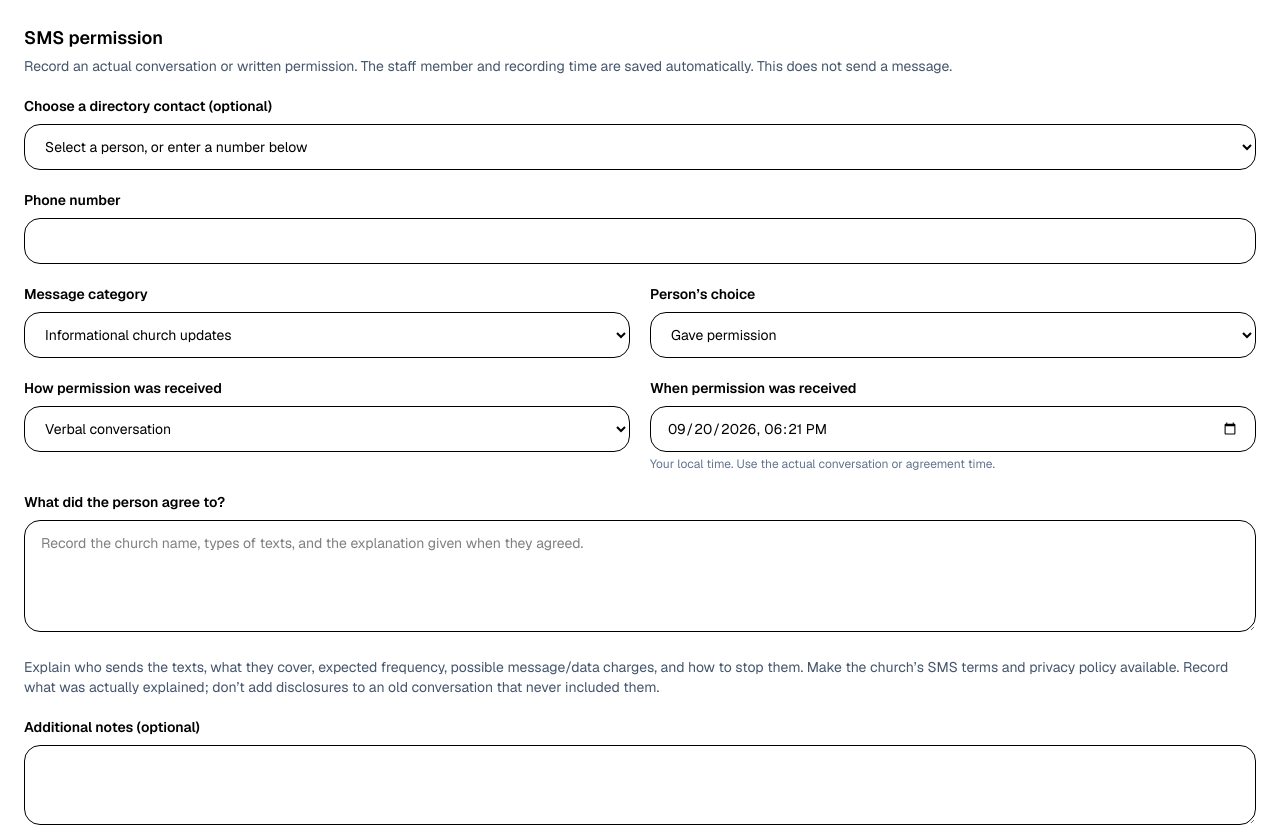
Scenario: clears evidence and confirmation when changing the recipient
The width and height of the screenshot is (1280, 837).
Type "2125551234" into the field labelled "Phone number" at (640, 241), box [24,218,1256,264]
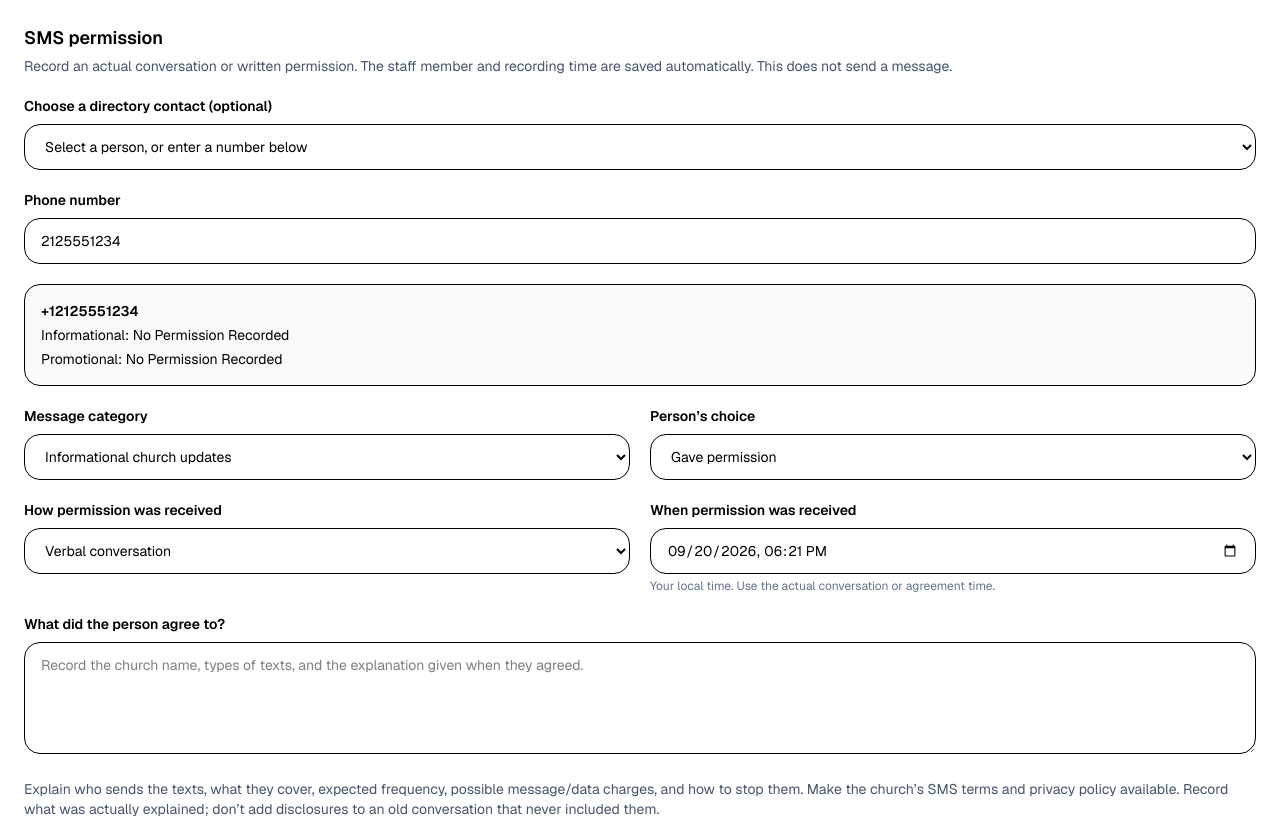
Result: the text "informational: No permission recorded" is shown at [41,326,290,344]
Replace the text in the text box labelled "What did the person agree to?" with "Agreed to church schedule updates after the service." at (640, 698), box [24,642,1256,754]
(page scrolled)
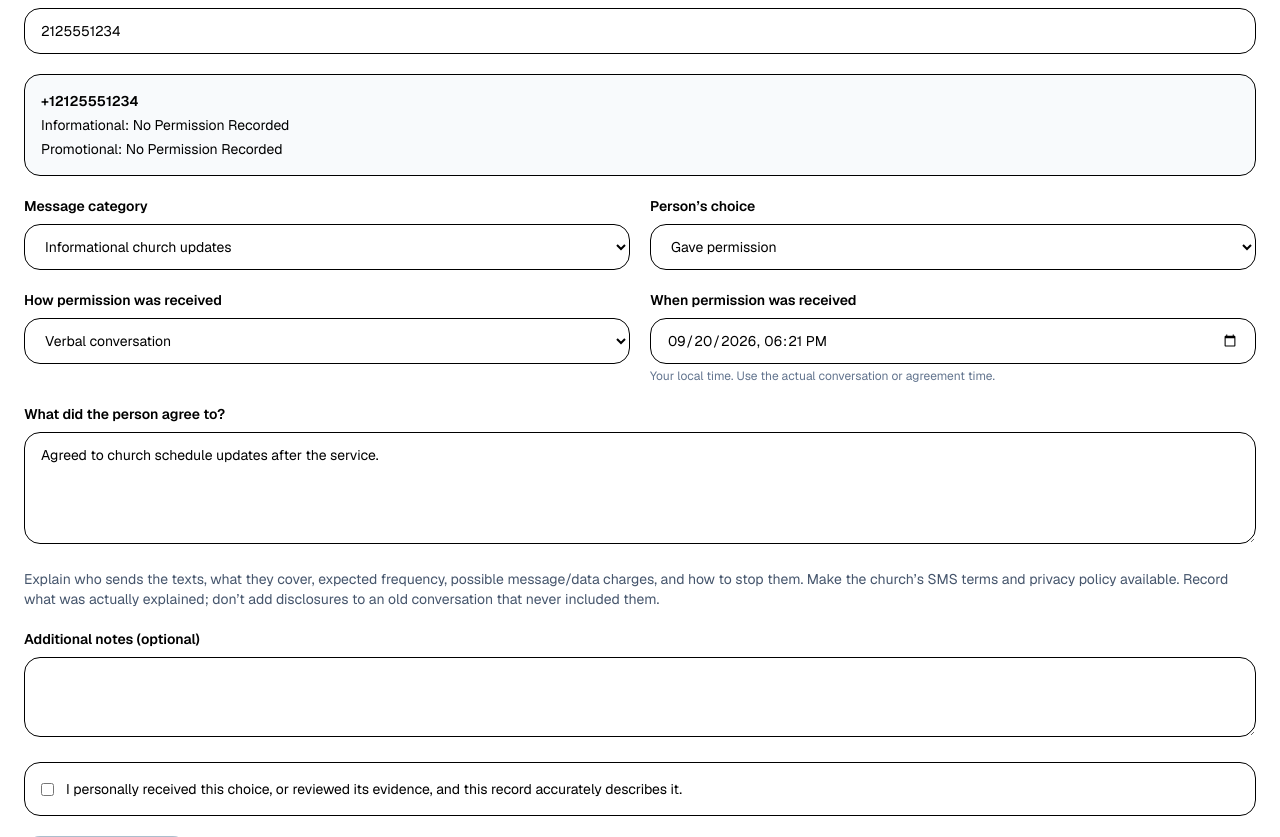
Click the checkbox at (48, 790), box [41,783,54,796]
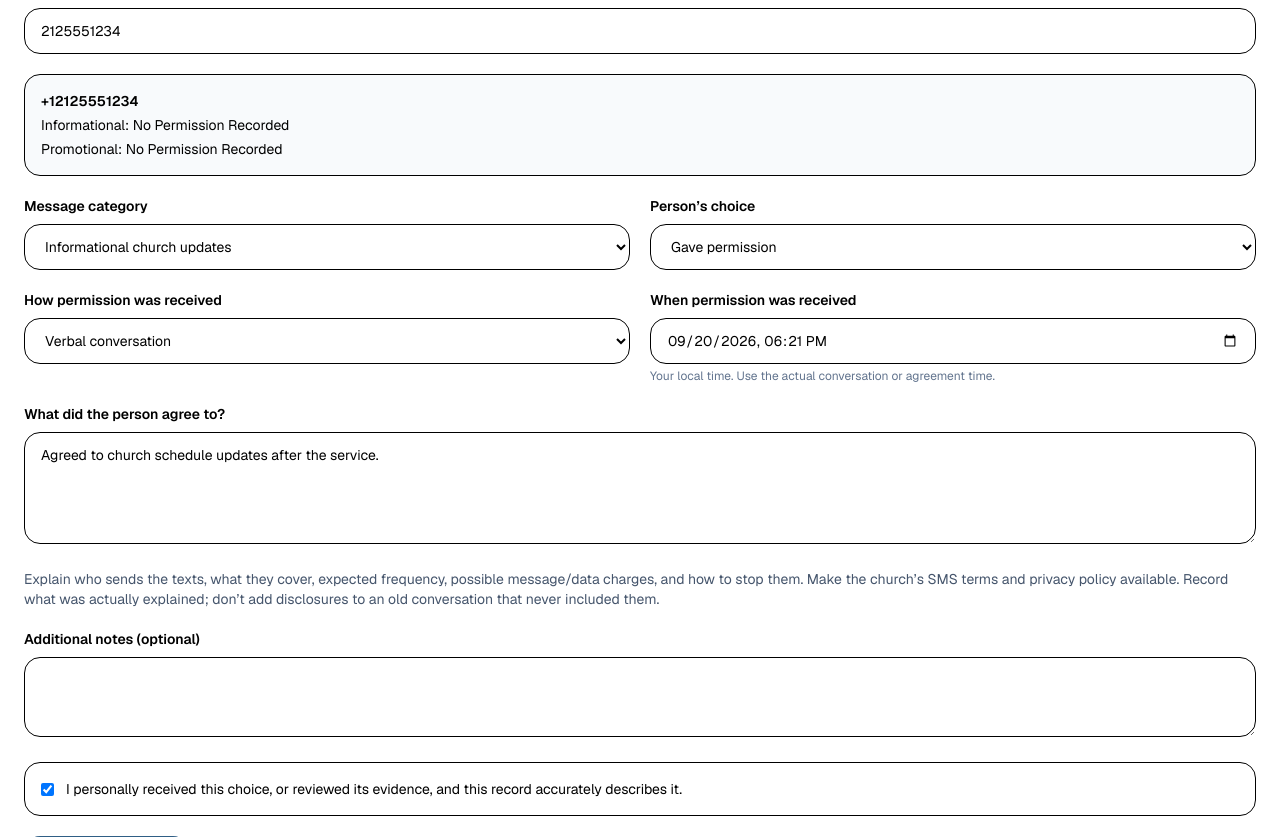
Replace the text in the field labelled "Phone number" with "2125551235" at (640, 31), box [24,8,1256,54]
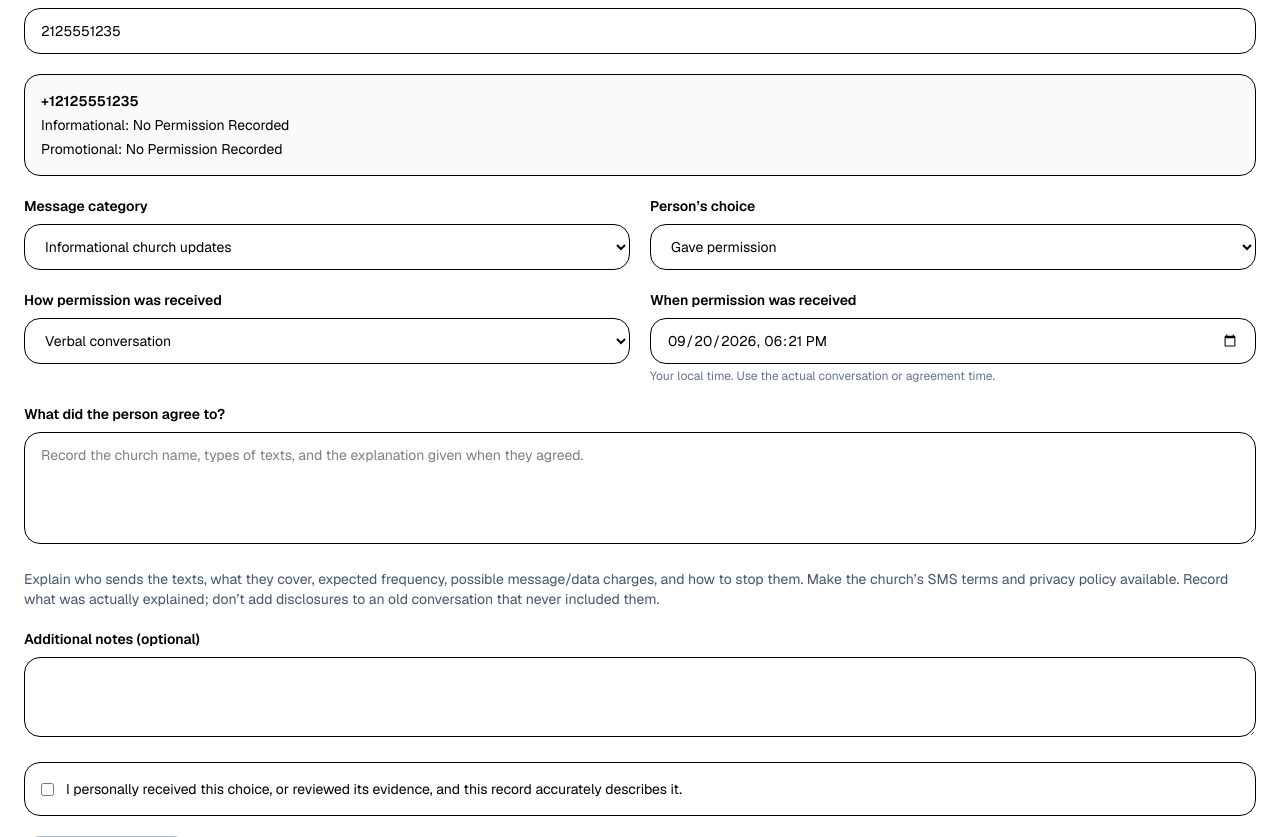
Result: the checkbox is not checked at [41,783,54,796]
Result: the text "informational: No permission recorded" is shown at [41,116,290,134]
Result: the text box labelled "What did the person agree to?" is empty at [24,432,1256,544]
